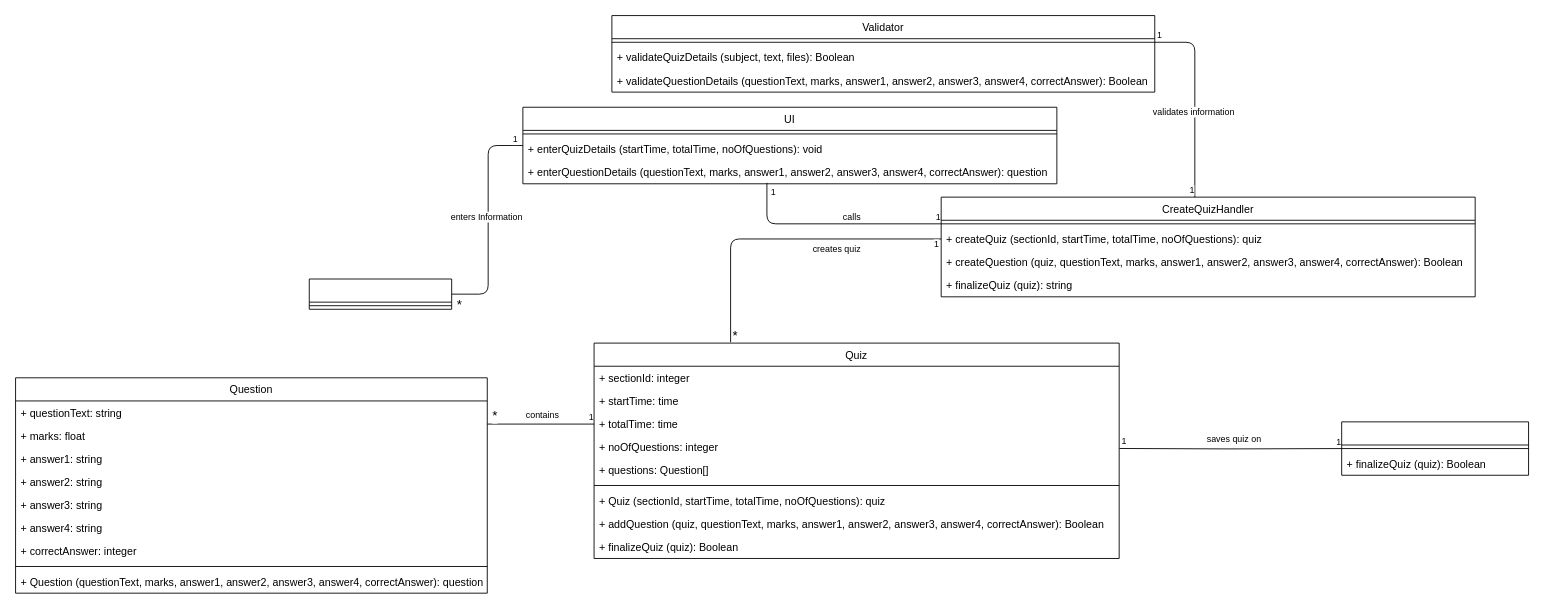
Some shapes in this 1544 by 611 pixel diagram are drawn without their labels. Here are the shapes that lost their labels. From the top down, the box of each, then its label:
(308, 278, 452, 309): Teacher
(1341, 421, 1529, 475): CloudServer
